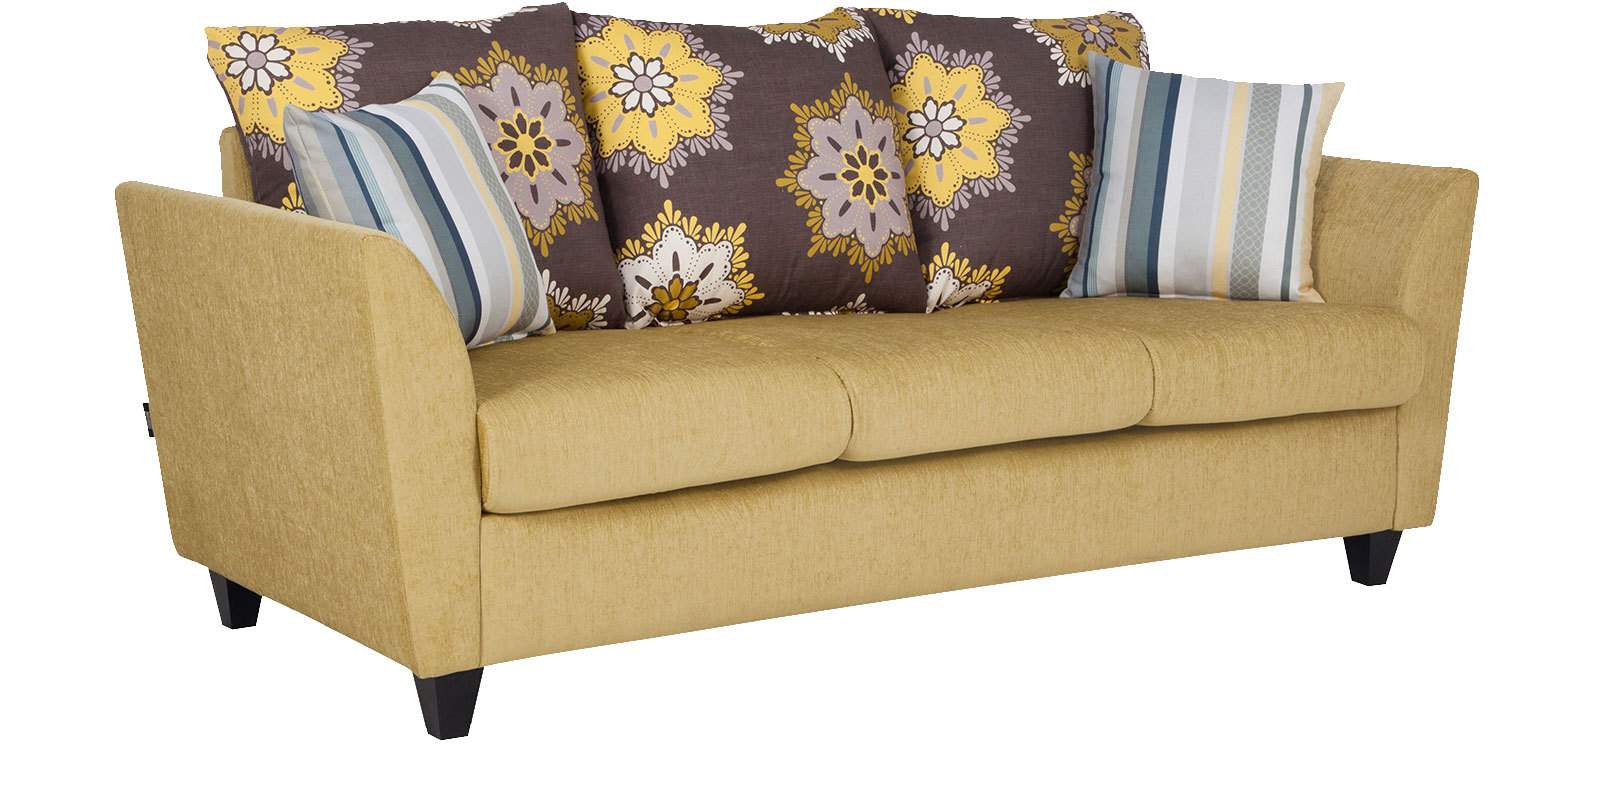Rio Brilliance Three Seater Sofa in Yellow Colour by Urban Living: (113, 1, 1480, 742)
